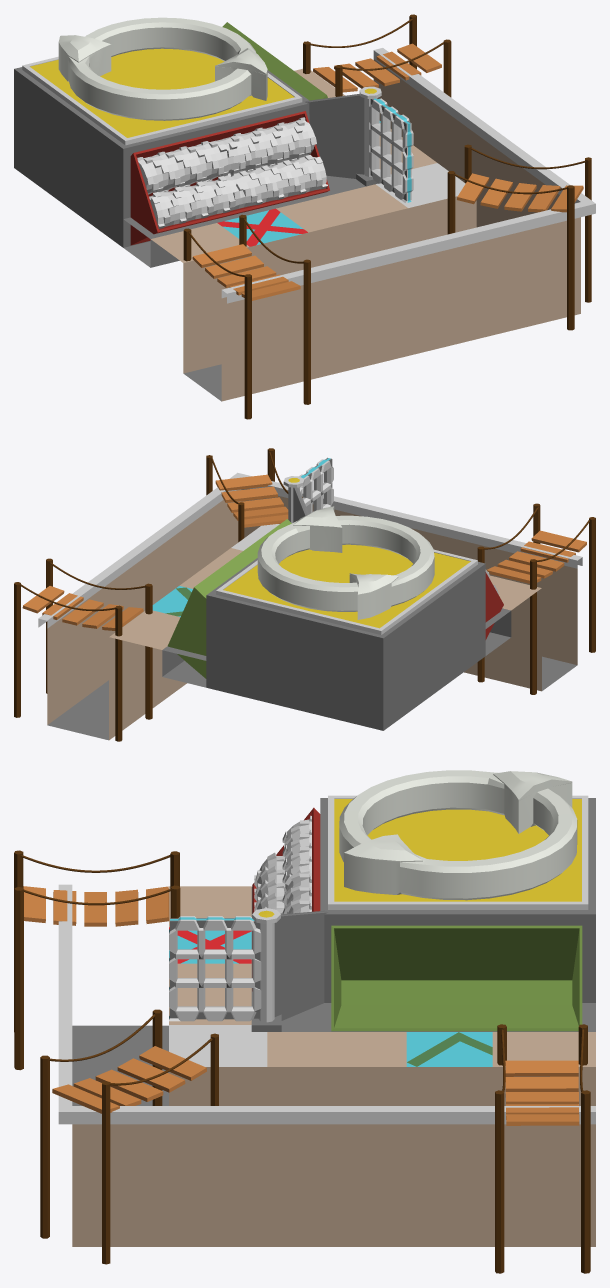
File: dropper.fbx
The picture shows the model from 3 angles, top to bottom: view 1: azimuth 30°, elevation 25°; view 2: azimuth 150°, elevation 25°; view 3: azimuth 270°, elevation 25°; orthographic projection. The views are drawn at different scales.
Parts seen in each view (by area): view 1: DropperFloor, DropperBody, ButtonArrows, Grindr, Grindr1, AddedCarcasa, VentIncorrect, Door, BridgeMasts.001, BridgeMasts, Bridge Planks, Bridge Planks.002 (+3 smaller); view 2: DropperBody, DropperFloor, ButtonArrows, BridgeMasts.002, VentCorrect, BridgeMasts, Bridge Planks.001, Bridge Planks, Bridge Planks.002, Door, AddedCarcasa, BridgeMasts.001 (+1 smaller); view 3: DropperFloor, VentCorrect, DropperBody, ButtonArrows, AddedCarcasa, Door, BridgeMasts.001, Bridge Planks.002, BridgeMasts.002, Bridge Planks.001, BridgeMasts, Bridge Planks (+3 smaller).
Part boxes in pixels (x1,y1,x2,y2): DropperFloor: (151, 48, 595, 401); DropperBody: (14, 48, 309, 267); ButtonArrows: (58, 17, 267, 120); Grindr: (137, 117, 316, 194); Grindr1: (149, 154, 327, 228); AddedCarcasa: (123, 86, 381, 238); VentIncorrect: (130, 111, 329, 245); Door: (369, 98, 413, 203); BridgeMasts.001: (447, 144, 591, 330); BridgeMasts: (183, 214, 310, 419); Bridge Planks: (192, 244, 300, 300); Bridge Planks.002: (313, 43, 441, 92); DropperBody: (162, 544, 511, 730); DropperFloor: (38, 472, 582, 740); ButtonArrows: (257, 506, 434, 619); BridgeMasts.002: (14, 558, 152, 741); VentCorrect: (167, 519, 291, 678); BridgeMasts: (477, 503, 595, 694); Bridge Planks.001: (215, 474, 288, 527); Bridge Planks: (486, 530, 586, 583); Bridge Planks.002: (22, 586, 143, 630); Door: (299, 457, 333, 513); AddedCarcasa: (162, 476, 510, 660); BridgeMasts.001: (206, 448, 302, 542); DropperFloor: (58, 884, 595, 1246); VentCorrect: (331, 925, 582, 1031); DropperBody: (320, 795, 595, 1002); ButtonArrows: (339, 770, 577, 900); AddedCarcasa: (251, 887, 595, 1031); Door: (169, 916, 261, 1021); BridgeMasts.001: (40, 1009, 218, 1264); Bridge Planks.002: (505, 1060, 579, 1125); BridgeMasts.002: (495, 1024, 590, 1273); Bridge Planks.001: (52, 1046, 206, 1113); BridgeMasts: (14, 850, 180, 1070); Bridge Planks: (23, 886, 169, 926).
Bounding box in the file's own units: 4212 × 2219 × 4224.
